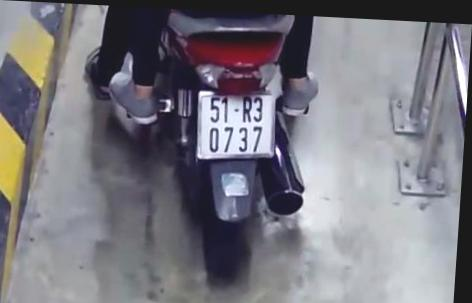License_Plate: (187, 86, 290, 165)
